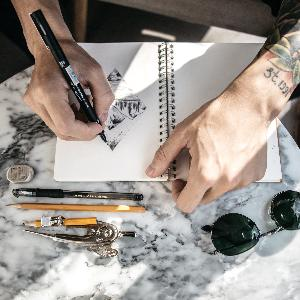pen: (24, 8, 108, 146), (10, 186, 147, 205)
